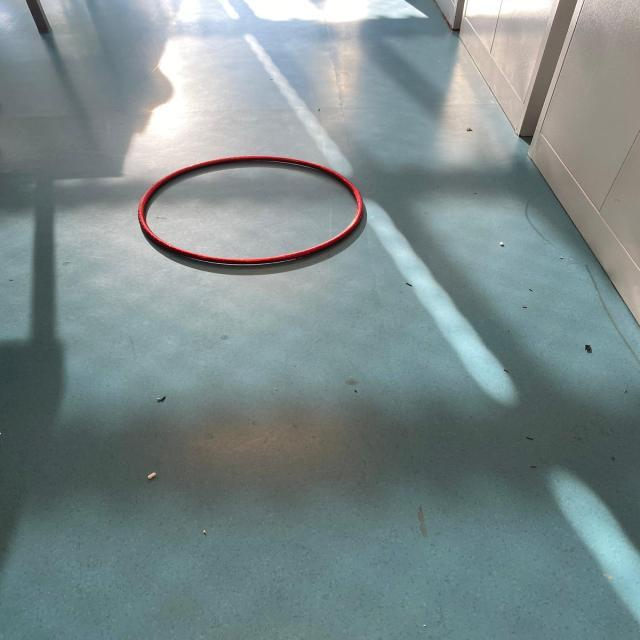Circle: (128, 151, 370, 272)
